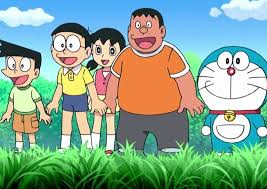doraemon: (196, 44, 267, 156)
